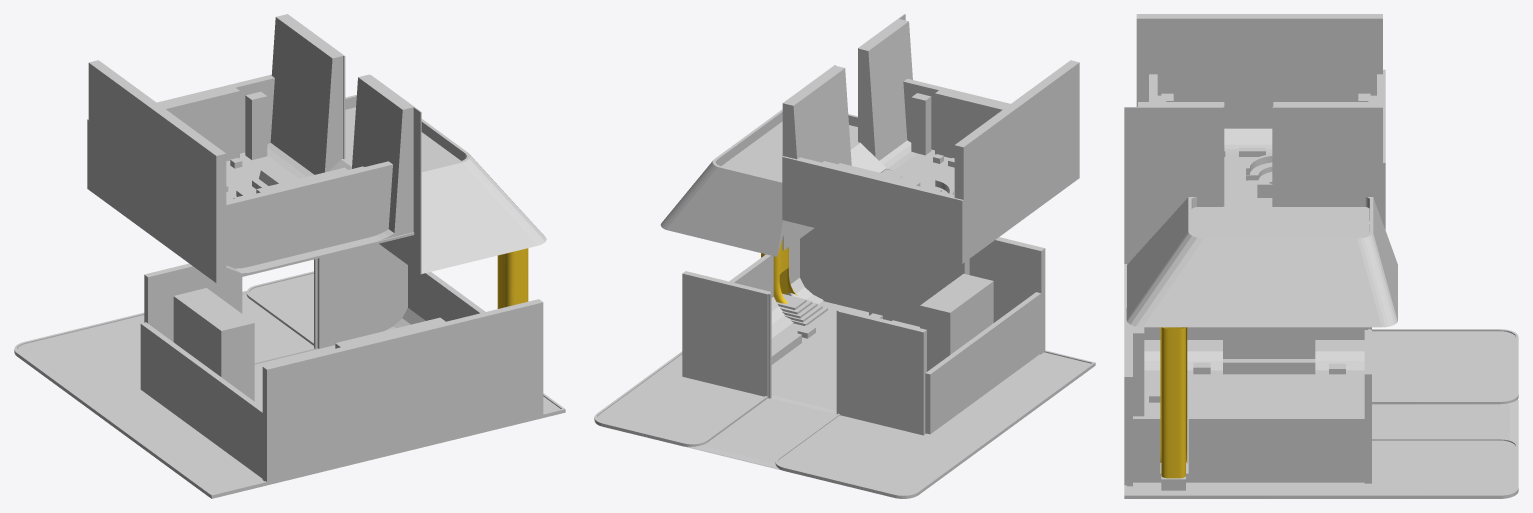
Rendered from UPS_Colliders.glb.
The picture shows the model from 3 angles, left to right: view 1: azimuth 30°, elevation 25°; view 2: azimuth 150°, elevation 25°; view 3: azimuth 270°, elevation 25°; orthographic projection. The views are drawn at different scales.
Visible parts, largest first — view 1: Main_collider_, MidPod_collider_, Line2391_collider_, Box1123_collider_; view 2: Main_collider_, MidPod_collider_, Line2391_collider_, Box1123_collider_; view 3: MidPod_collider_, Main_collider_, Line2391_collider_, Elevator_collider_002, Box861_collider_, Box860_collider_, Box1123_collider_.
Boxes of the visible parts, x1,y1,x2,y2 form: Main_collider_: [14, 243, 565, 498]; MidPod_collider_: [87, 14, 546, 283]; Line2391_collider_: [385, 265, 485, 330]; Box1123_collider_: [497, 250, 524, 308]; Main_collider_: [594, 228, 1095, 498]; MidPod_collider_: [660, 14, 1079, 263]; Line2391_collider_: [729, 239, 823, 338]; Box1123_collider_: [764, 239, 797, 303]; MidPod_collider_: [1124, 14, 1397, 327]; Main_collider_: [1124, 264, 1518, 498]; Line2391_collider_: [1133, 416, 1368, 482]; Elevator_collider_002: [1161, 327, 1185, 478]; Box861_collider_: [1223, 327, 1315, 358]; Box860_collider_: [1223, 359, 1315, 374]; Box1123_collider_: [1160, 327, 1187, 463].
Bounding box in the file's own units: 32 × 29 × 32.
Materials: 1 (1 with a texture image).
